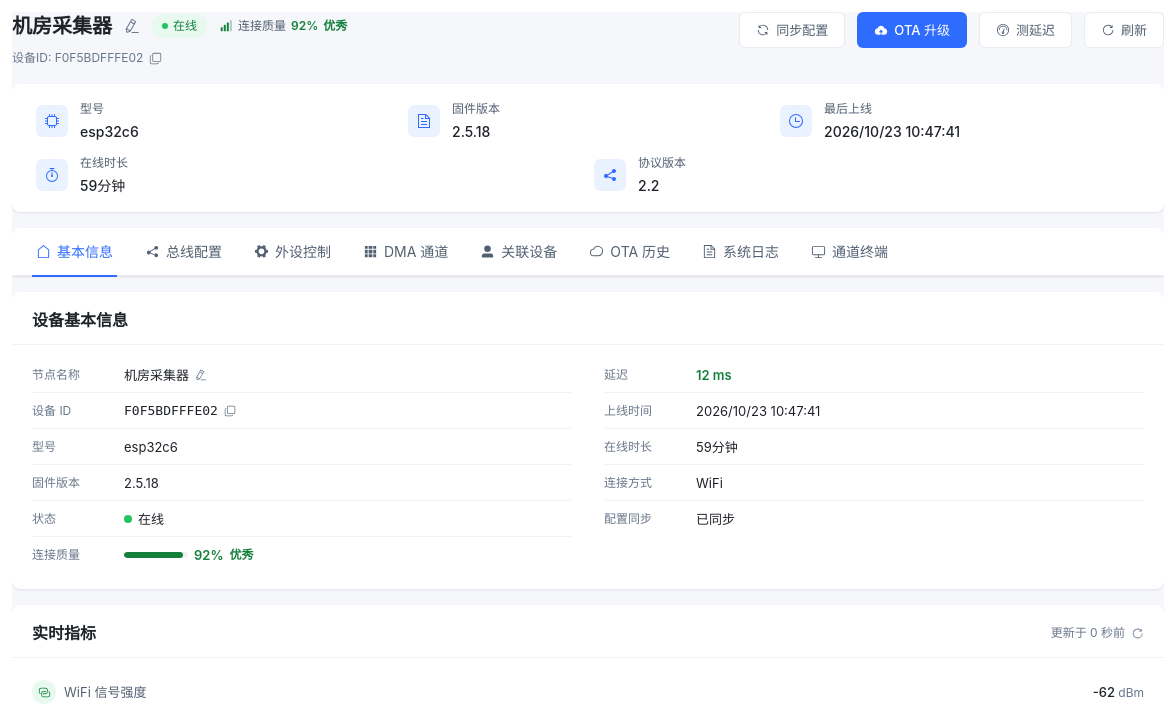
it: B1：DMA 必须可选资源（不是只能开关） › SPI（3 条候选）渲染选择器，候选完整列出并带 dma_id
This screenshot has width=1176, height=715.
Click the tab with class "tab-item" showing "总线配置".
click(184, 251)  # box 145,242 -> 222,260
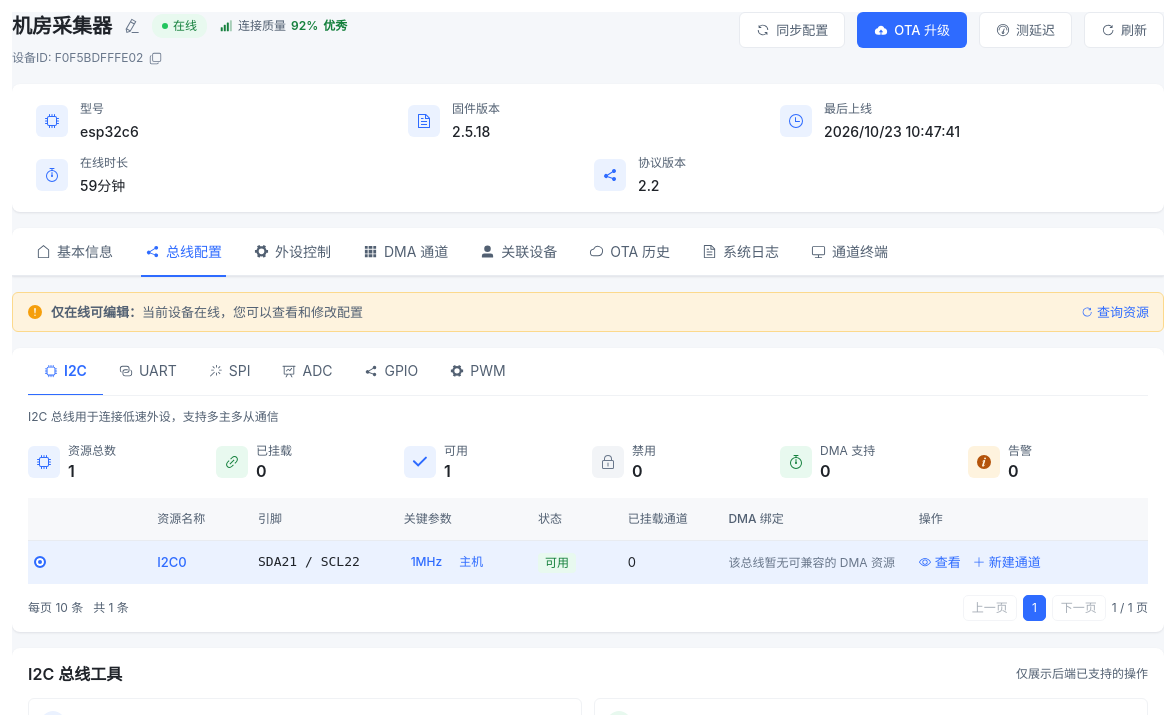
Click the button with class "bus-subtab" showing "SPI".
click(230, 372)  # box 193,348 -> 266,396
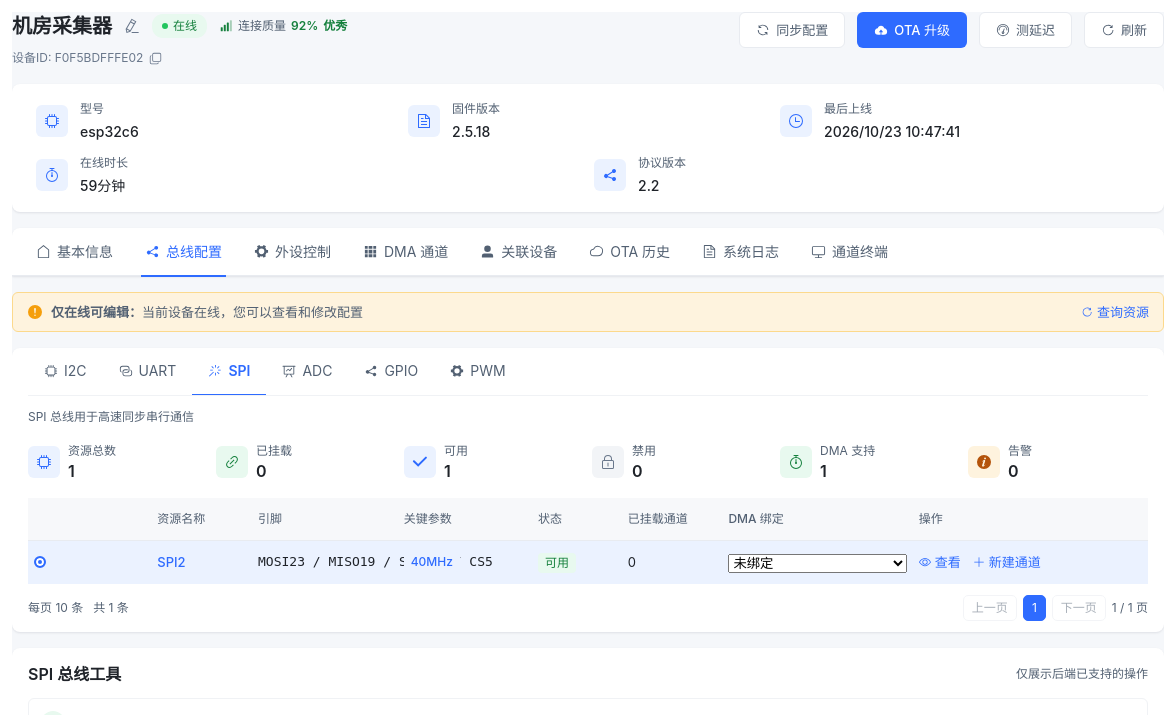
Now the dropdown named "SPI2 绑定的 DMA 资源" is shown, box 728,554 -> 907,573
